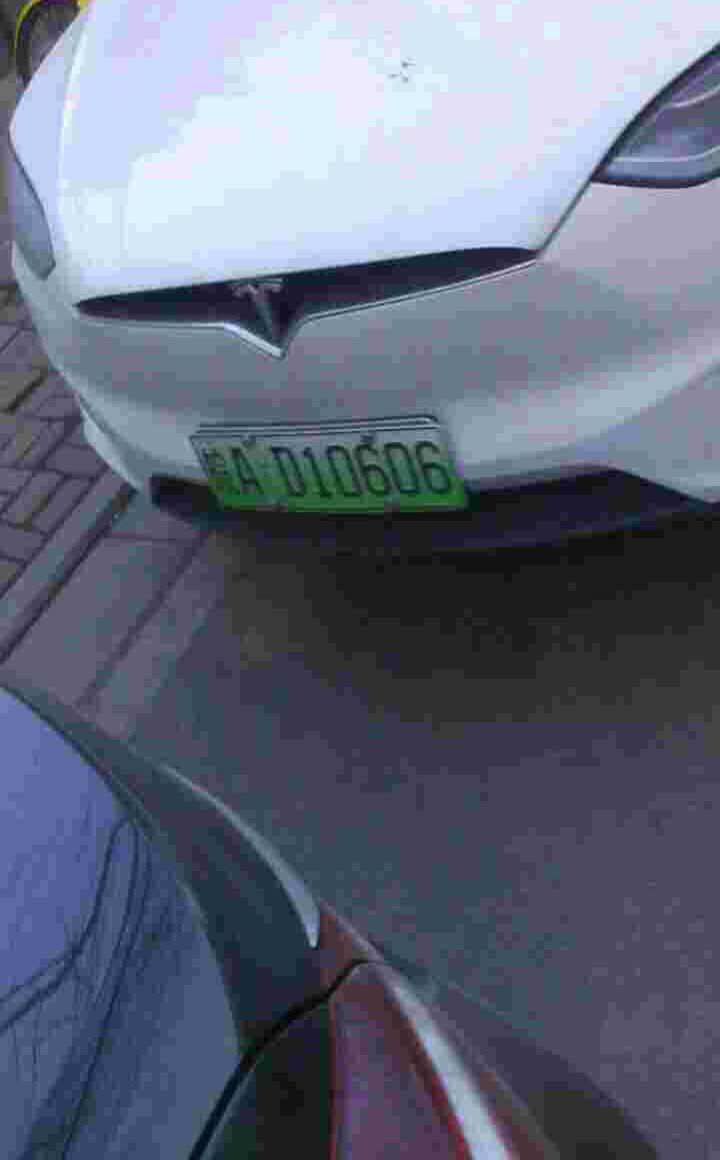car: (204, 425, 470, 512)
